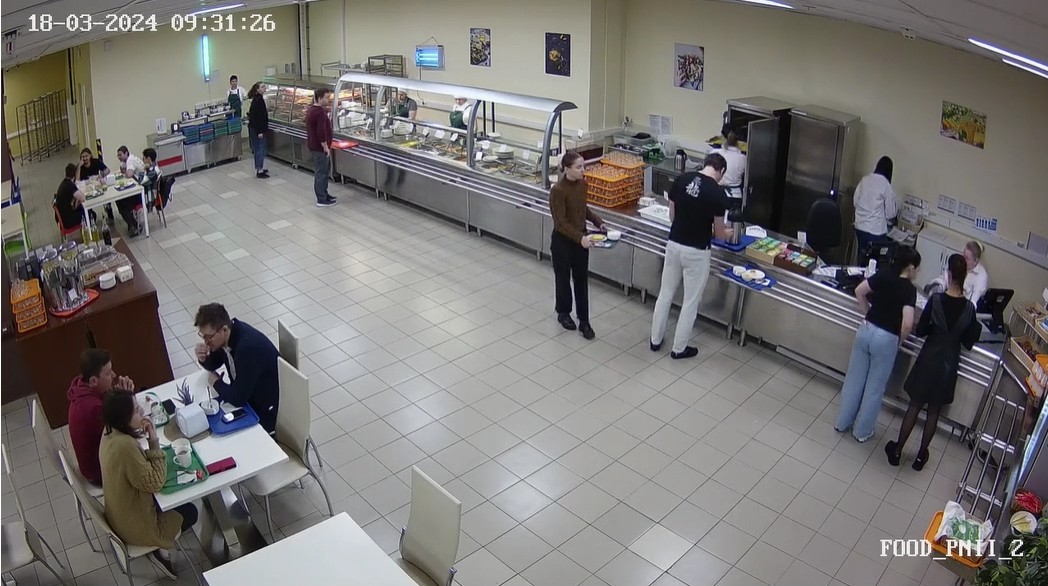Na_Kasse: (825, 247, 998, 481), (781, 237, 935, 444)
Personal: (848, 139, 900, 243), (963, 236, 995, 303), (724, 118, 749, 202), (222, 65, 245, 123), (442, 91, 476, 130)
Vybiraet: (591, 145, 751, 362), (541, 144, 623, 356), (297, 79, 350, 214), (245, 72, 281, 182)
Za_Stolom: (91, 385, 172, 564), (188, 293, 291, 432), (49, 339, 136, 482), (43, 157, 86, 238), (134, 145, 167, 207), (72, 139, 110, 185), (113, 144, 147, 185)
